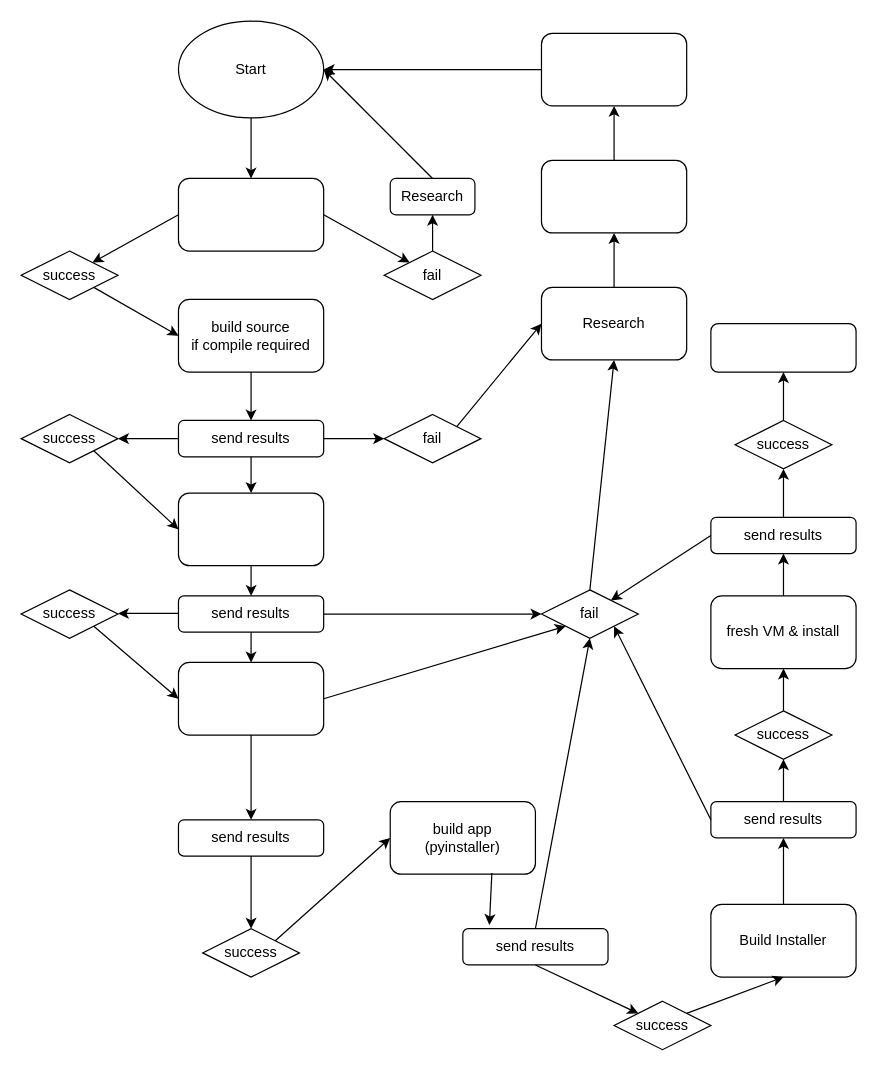
This 877x1071 diagram has some shape labels left out. The shapes that lost their labels are listed below. From the top down, each one's box as (x1, y1, x2, y2) in pixels, then its label:
(540, 32, 687, 106): checkin
(177, 177, 324, 251): pull source
(540, 159, 687, 233): Refactor, Rewrite, document
(710, 322, 856, 372): Stage 4 deployment
(177, 492, 324, 566): auto test
(177, 661, 324, 735): manual tests
